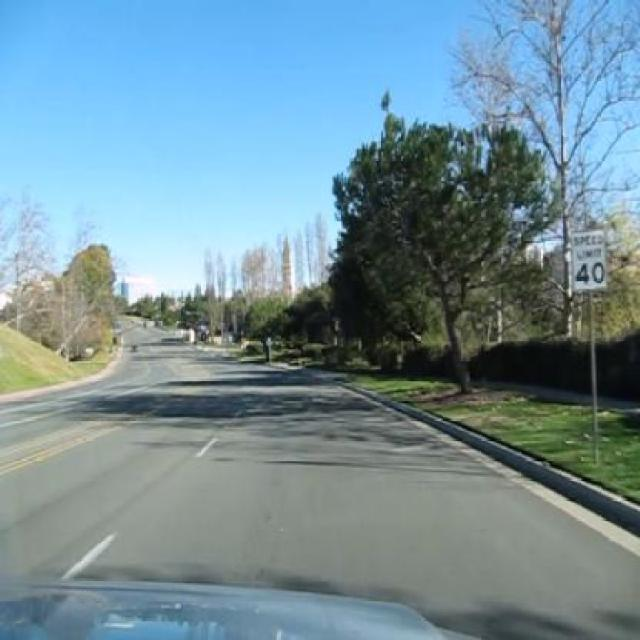speedLimit40: (569, 226, 609, 292)
